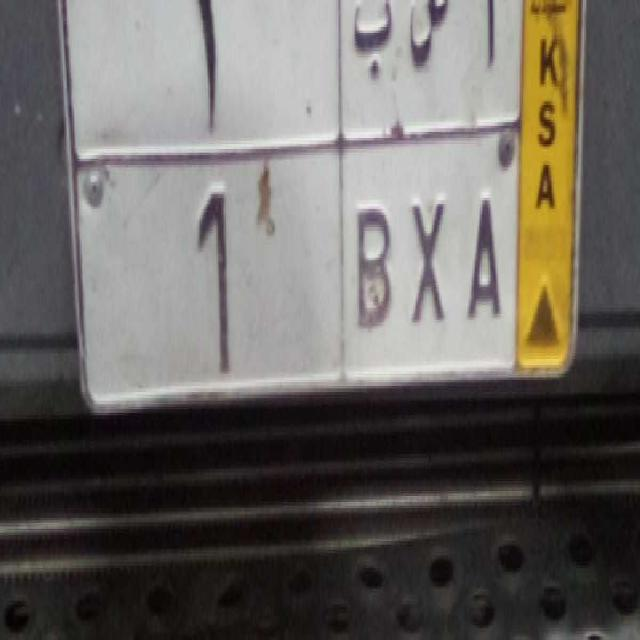license_plate: (72, 126, 522, 391)
